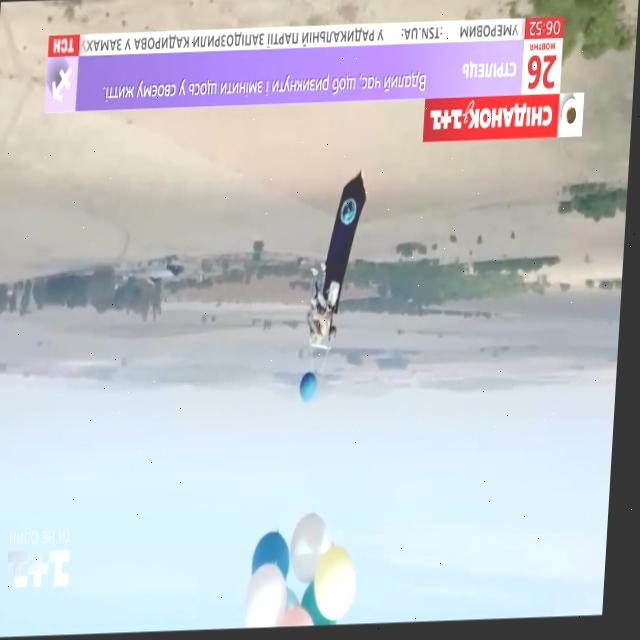balloon: (318, 547, 360, 624), (248, 566, 295, 631), (296, 515, 337, 584), (256, 534, 295, 585), (308, 587, 342, 630), (285, 604, 315, 631), (302, 374, 323, 406)
